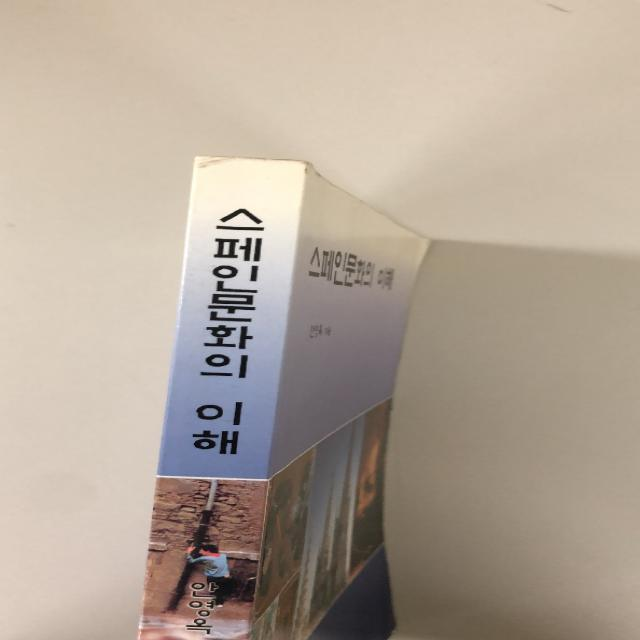Wornout: (183, 149, 322, 171)
